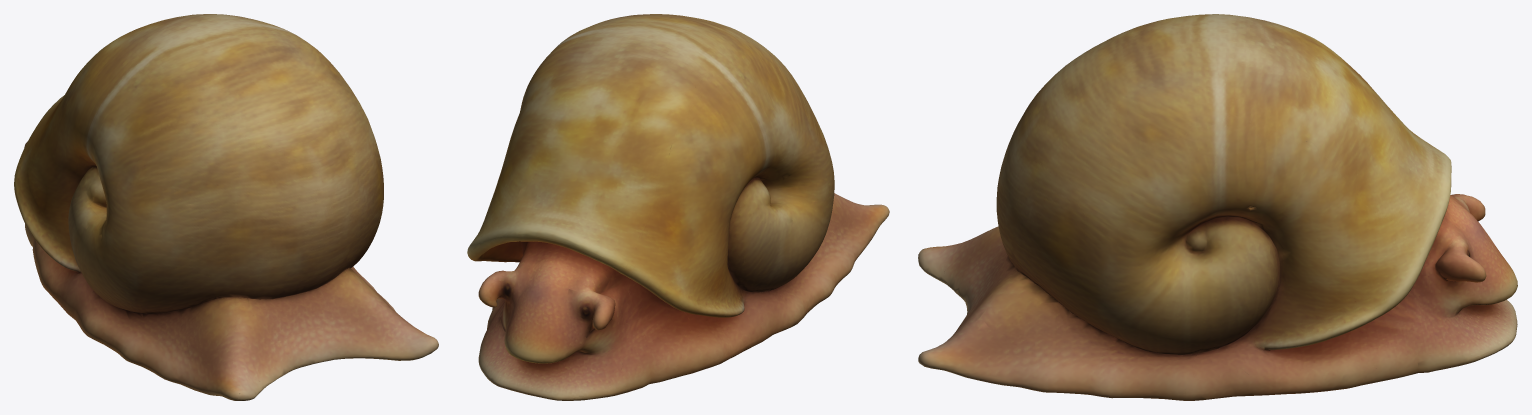
The picture shows the model from 3 angles, left to right: view 1: azimuth 30°, elevation 25°; view 2: azimuth 150°, elevation 25°; view 3: azimuth 270°, elevation 25°; orthographic projection. The views are drawn at different scales.
Parts seen in each view (by area): view 1: world; view 2: world; view 3: world.
Part boxes in pixels (box(x1,y1,x2,y2)): world: box(14, 14, 438, 400); world: box(467, 14, 889, 400); world: box(918, 14, 1517, 400).
Bounding box in the file's own units: 0.0306 × 0.029 × 0.0521.
1 material, 1 textured.
